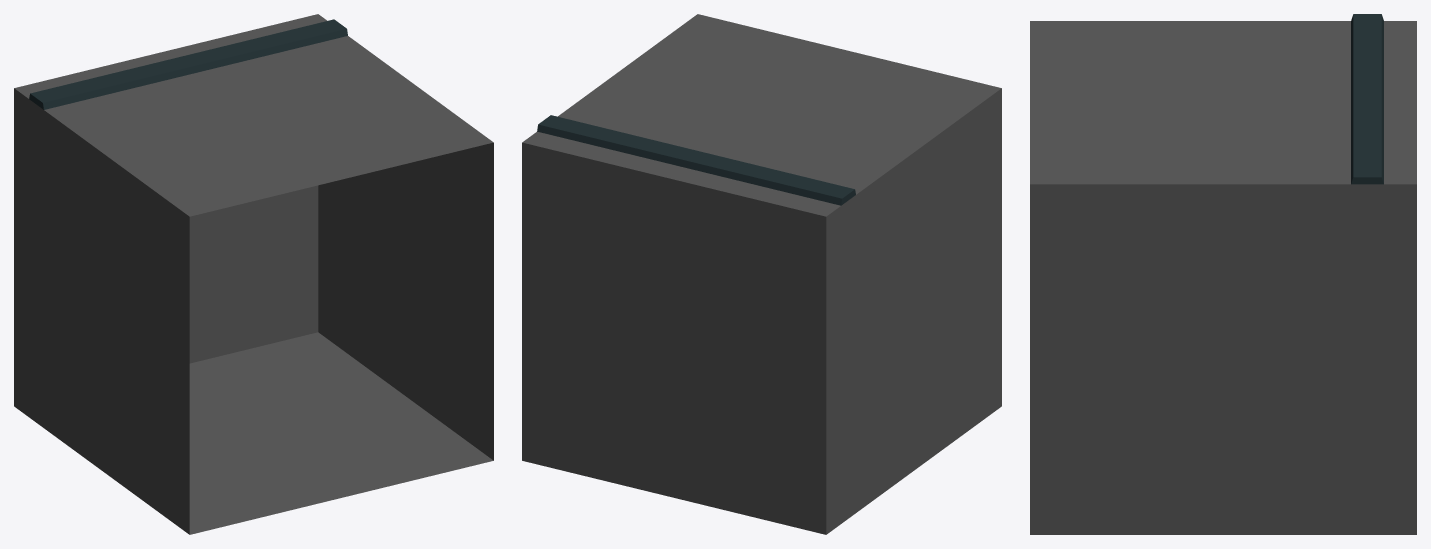
The model's file is SM_platform_3x3.fbx.
3 renders of one model, left to right at view 1: azimuth 30°, elevation 25°; view 2: azimuth 150°, elevation 25°; view 3: azimuth 270°, elevation 25°, orthographic. The views are drawn at different scales.
Visible parts, largest first — view 1: SM_platform_3x3; view 2: SM_platform_3x3; view 3: SM_platform_3x3.
Part boxes in pixels (x1=…): SM_platform_3x3: x1=14, y1=14, x2=493, y2=534; SM_platform_3x3: x1=522, y1=14, x2=1001, y2=534; SM_platform_3x3: x1=1030, y1=14, x2=1416, y2=534.
Size of the model in its own units: 300 by 306 by 300.
Materials: 1 (1 with a texture image).
